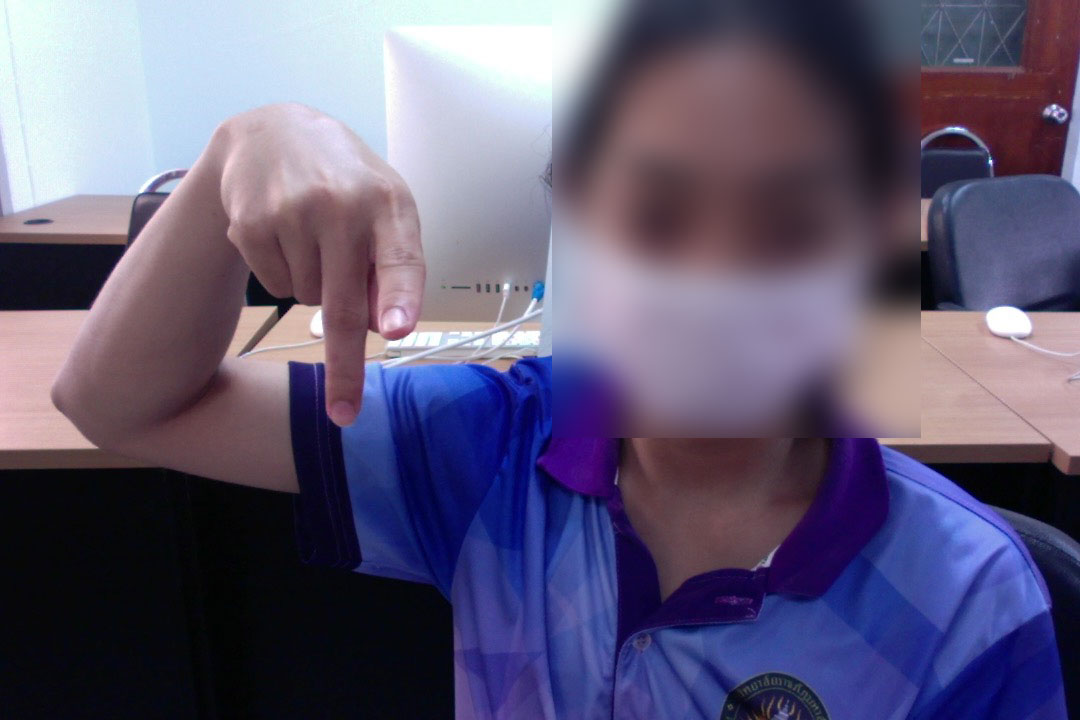por: (209, 92, 435, 443)
